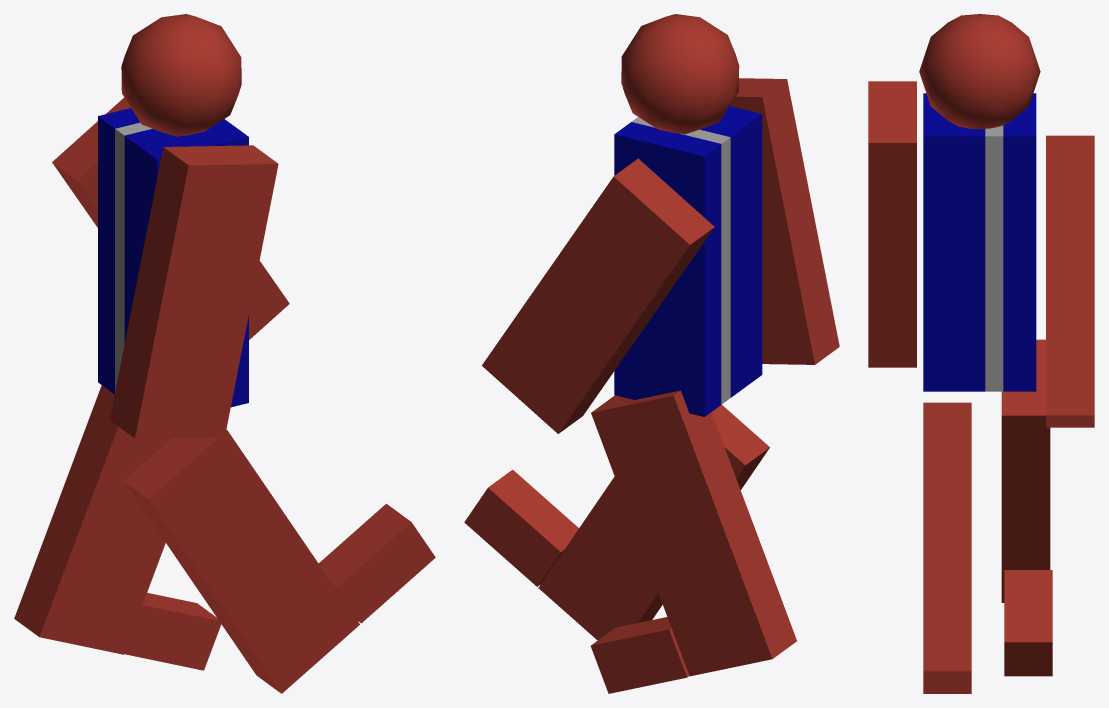
The model's file is player_000016.obj.
The picture shows the model from 3 angles, left to right: view 1: azimuth 30°, elevation 25°; view 2: azimuth 150°, elevation 25°; view 3: azimuth 270°, elevation 25°; orthographic projection. The views are drawn at different scales.
Parts seen in each view (by area): view 1: Cube.005, Cube.001, Cube.002, Cube, Icosphere, Cube.003, Cube.004, Cube.006; view 2: Cube.002, Cube, Cube.006, Cube.005, Cube.001, Icosphere, Cube.003, Cube.004; view 3: Cube, Cube.006, Cube.005, Cube.001, Icosphere, Cube.002, Cube.004, Cube.003.
Boxes of the visible parts, <box> form: Cube.005: <box>110,145,278,438</box>; Cube.001: <box>124,429,359,693</box>; Cube.002: <box>14,385,171,654</box>; Cube: <box>98,108,248,407</box>; Icosphere: <box>121,14,241,136</box>; Cube.003: <box>318,503,435,623</box>; Cube.004: <box>124,592,221,670</box>; Cube.006: <box>52,97,289,339</box>; Cube.002: <box>591,390,796,676</box>; Cube: <box>614,106,762,416</box>; Cube.006: <box>482,158,714,433</box>; Cube.005: <box>730,78,839,364</box>; Cube.001: <box>538,404,769,640</box>; Icosphere: <box>621,14,739,134</box>; Cube.003: <box>464,469,578,586</box>; Cube.004: <box>590,617,689,693</box>; Cube: <box>923,93,1036,391</box>; Cube.006: <box>1046,135,1094,427</box>; Cube.005: <box>868,81,916,367</box>; Cube.001: <box>923,402,971,693</box>; Icosphere: <box>919,14,1040,129</box>; Cube.002: <box>1001,339,1050,602</box>; Cube.004: <box>1004,570,1052,676</box>; Cube.003: <box>923,620,971,682</box>.
Bounding box in the file's own units: 1.59 × 2.86 × 0.9137.
